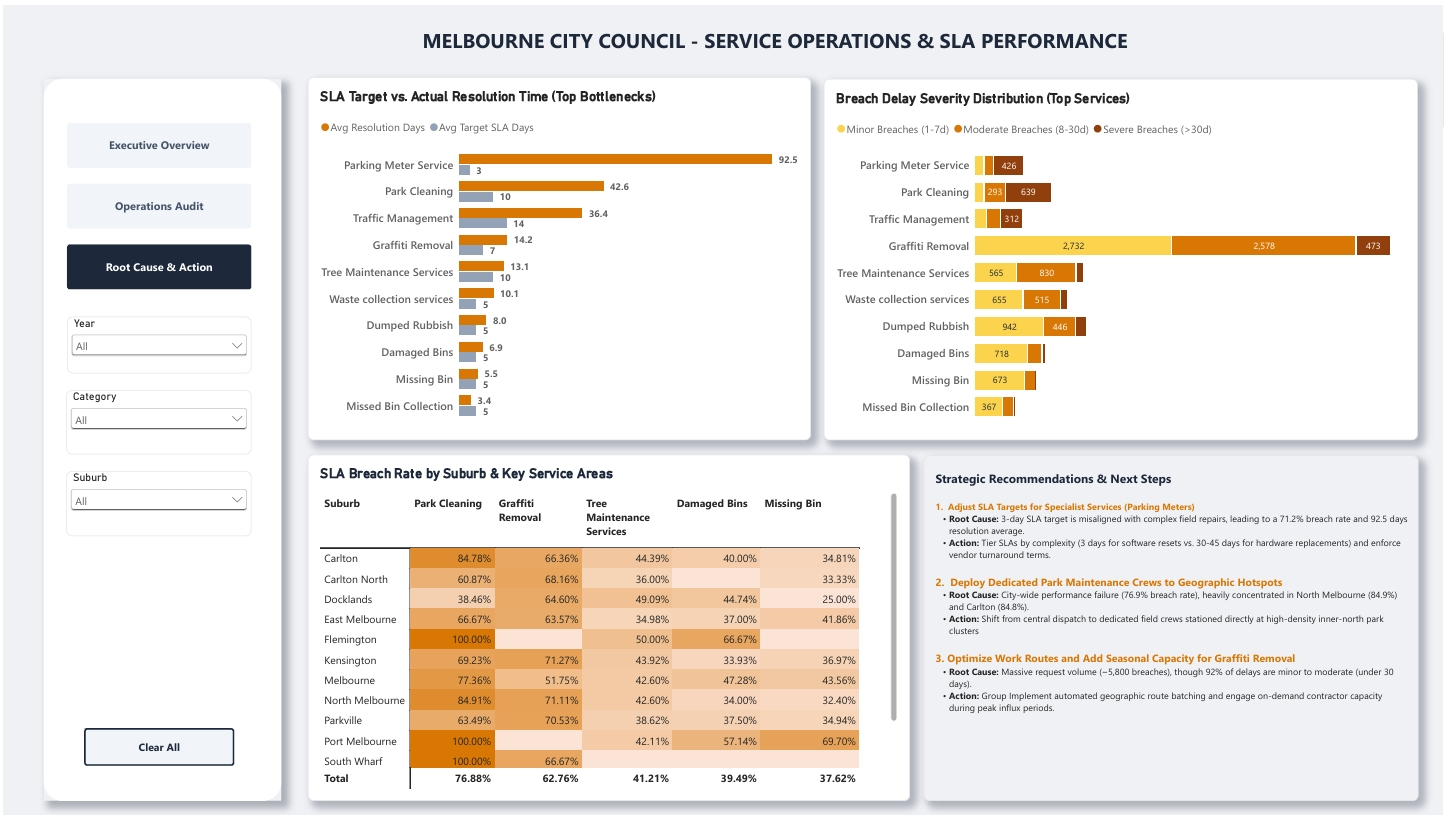

The page's visual inventory and layout, read from the dashboard file:
{"tool":"powerbi","page":{"name":"Root Cause & Action","canvas":[1920,1080],"ordinal":2},"visuals":[{"type":"shape","box":[53.3,96.7,316.7,963.3],"z":0},{"type":"textbox","box":[526.9,26.9,1001.9,50],"z":1000},{"type":"slicer","fields":{"Values":["dim_date.year"]},"box":[83.5,414,246.2,76.2],"z":2000},{"type":"slicer","fields":{"Values":["dim_category.category"]},"box":[83.1,511.8,246.7,86.7],"z":3000},{"type":"slicer","fields":{"Values":["dim_suburb.suburb_name"]},"box":[83.1,620,246.7,86.7],"z":4000},{"type":"actionButton","box":[83.8,317.5,246,60],"z":6000},{"type":"actionButton","box":[83.8,156.2,246.2,60],"z":7000},{"type":"actionButton","box":[83.8,236.9,246,60],"z":8000},{"type":"clusteredBarChart","title":"SLA Target vs. Actual Resolution Time (Top Bottlenecks)","fields":{"Category":["dim_category.service_desc"],"Y":["_Measures.Avg Resolution Days","_Measures.Avg Target SLA Days"]},"box":[405,95,671.2,483.8],"z":9000},{"type":"barChart","title":"Breach Delay Severity Distribution (Top Services)","fields":{"Category":["dim_category.service_desc"],"Y":["_Measures.Minor Breaches (1-7d)","_Measures.Moderate Breaches (8-30d)","_Measures.Severe Breaches (>30d)"]},"box":[1093.3,96.6,791.7,482],"z":10000},{"type":"pivotTable","title":"SLA Breach Rate by Suburb & Key Service Areas","fields":{"Columns":["dim_category.service_desc"],"Rows":["dim_suburb.suburb_name"],"Values":["_Measures.SLA Breach Rate %"]},"box":[405,598.3,803.3,461.7],"z":11000},{"type":"textbox","box":[1225.6,598.9,660,461.1],"z":12000},{"type":"actionButton","box":[106.7,963.3,200,50],"z":12001}]}

Visuals, with their boxes in screenshot pixels (x1, y1, x2, y2), scaled from the page's 1920x1080 canvas onto the 1445x815 screenshot:
shape: <box>40,73,278,800</box>
textbox: <box>397,20,1151,58</box>
slicer - dim_date.year: <box>63,312,248,370</box>
slicer - dim_category.category: <box>63,386,248,452</box>
slicer - dim_suburb.suburb_name: <box>63,468,248,533</box>
actionButton: <box>63,240,248,285</box>
actionButton: <box>63,118,248,163</box>
actionButton: <box>63,179,248,224</box>
"SLA Target vs. Actual Resolution Time (Top Bottlenecks)" clusteredBarChart: <box>305,72,810,437</box>
"Breach Delay Severity Distribution (Top Services)" barChart: <box>823,73,1419,437</box>
"SLA Breach Rate by Suburb & Key Service Areas" pivotTable: <box>305,451,909,800</box>
textbox: <box>922,452,1419,800</box>
actionButton: <box>80,727,231,765</box>
